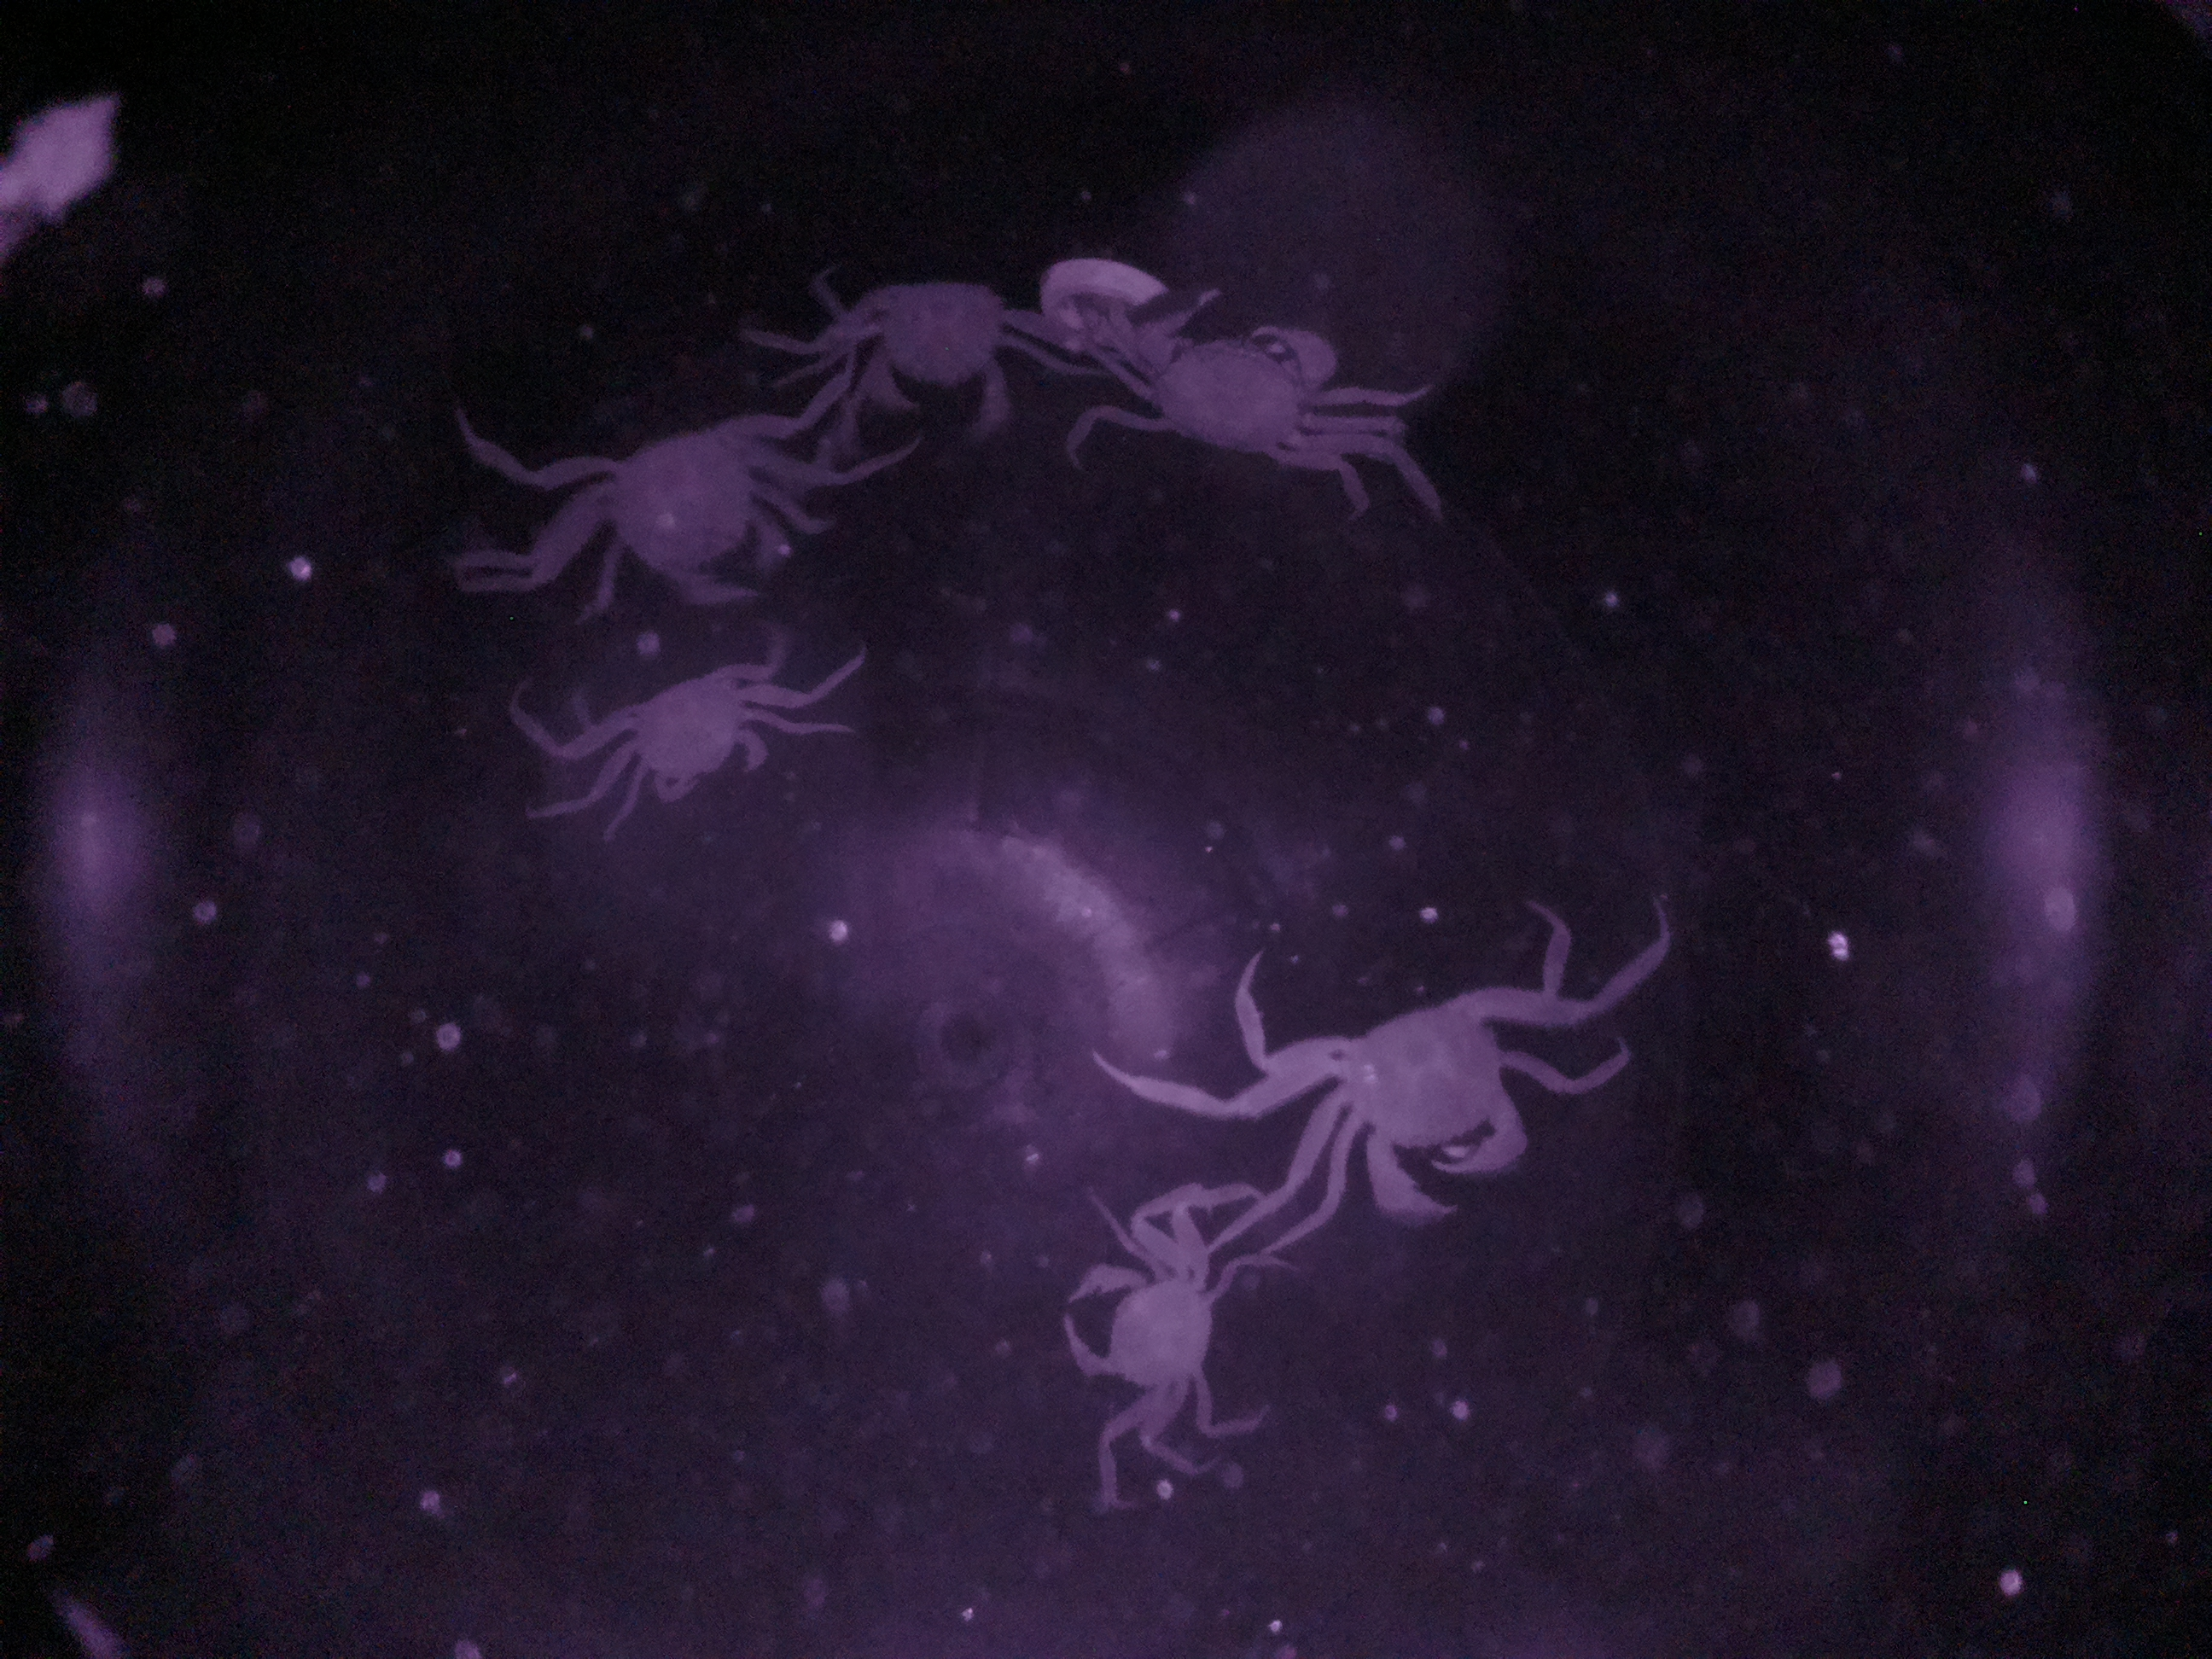Crab: (1275, 967, 1536, 1229), (531, 404, 810, 622), (1101, 275, 1350, 483), (1024, 1211, 1235, 1429), (550, 662, 784, 807), (834, 279, 1033, 441)
